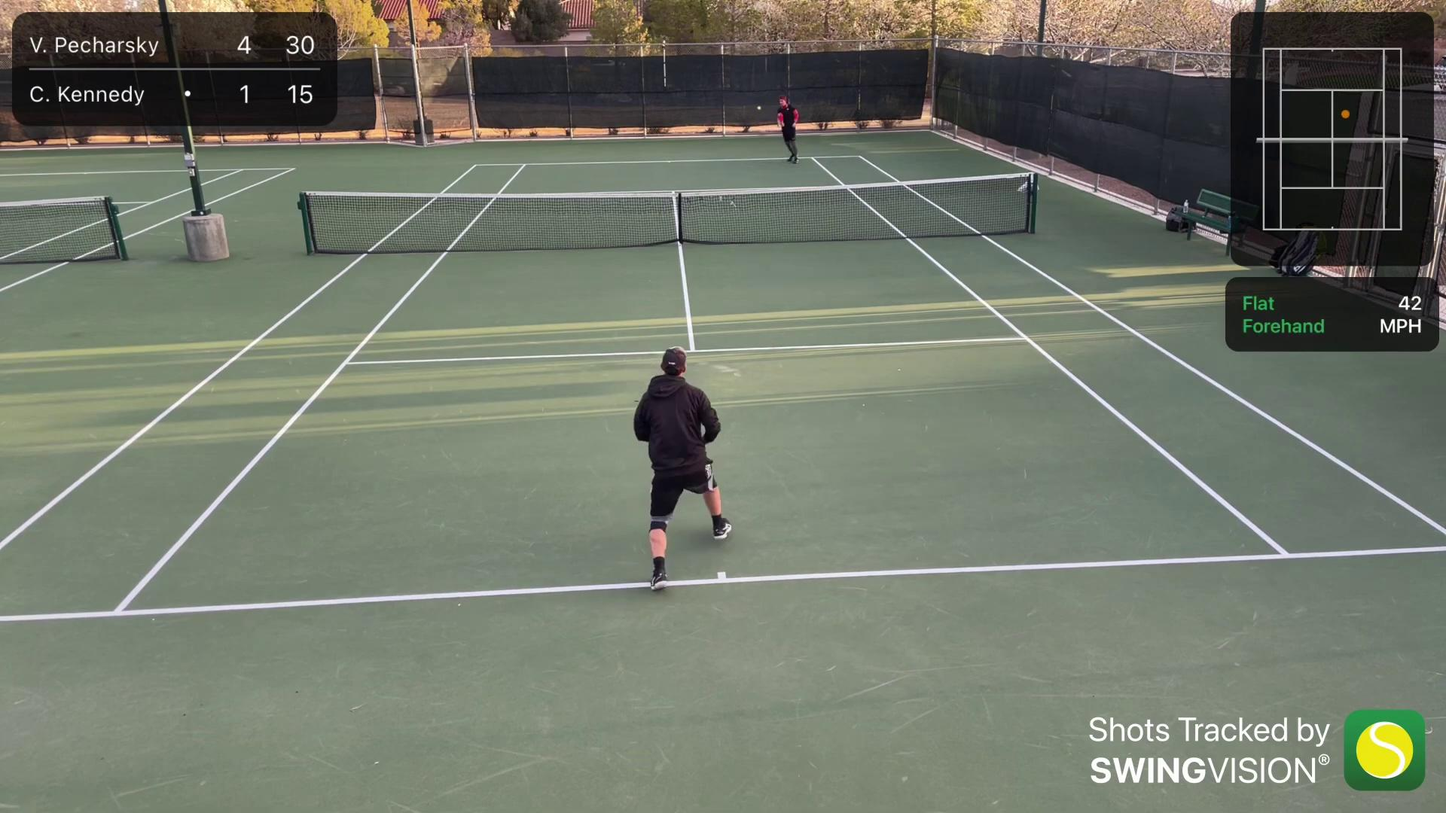ball: (757, 105, 763, 111)
